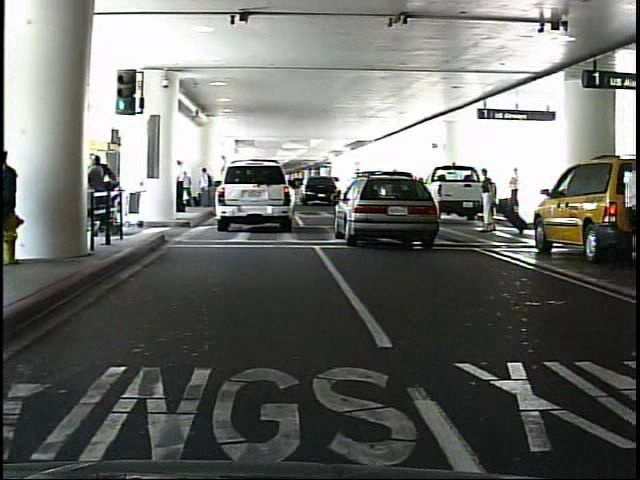person: (3, 148, 26, 266), (616, 156, 640, 262), (480, 166, 501, 233), (511, 166, 525, 216), (179, 157, 190, 216), (201, 167, 216, 209)
